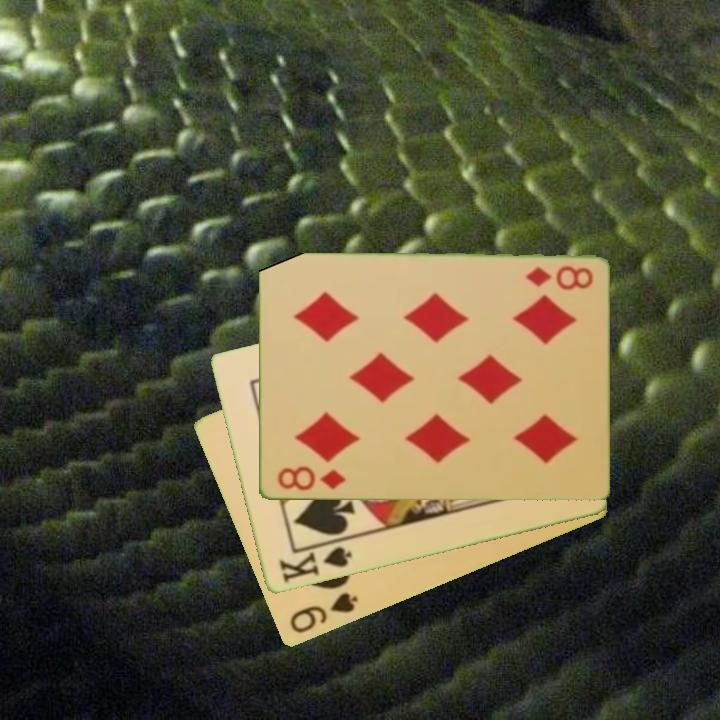8d: (274, 463, 348, 494), (521, 263, 595, 291)
9s: (286, 589, 361, 637)
Ks: (275, 537, 355, 586)
